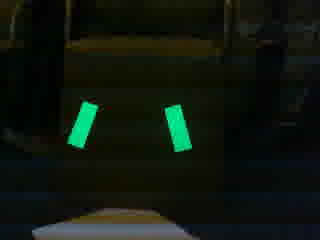target: (67, 99, 197, 154)
